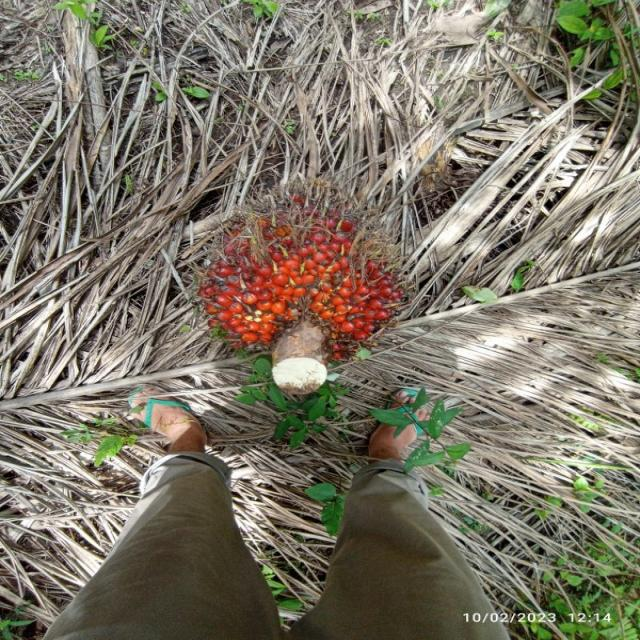fraksi 3: (176, 156, 432, 375)
